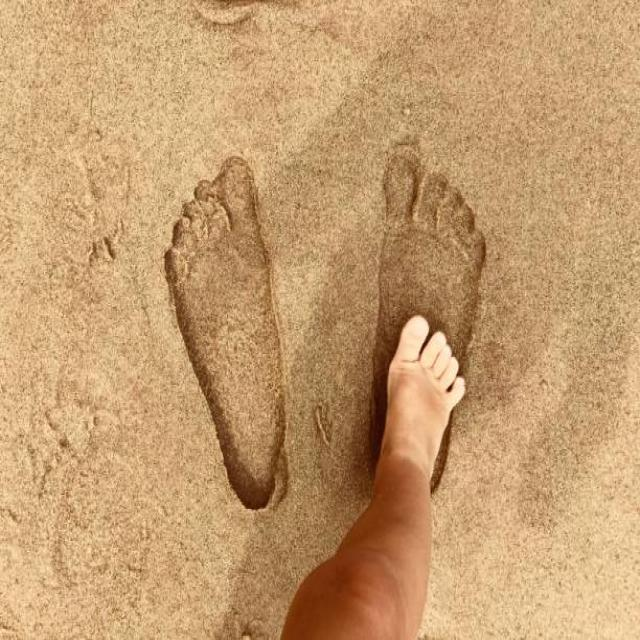human_footprint: (147, 118, 320, 540)
